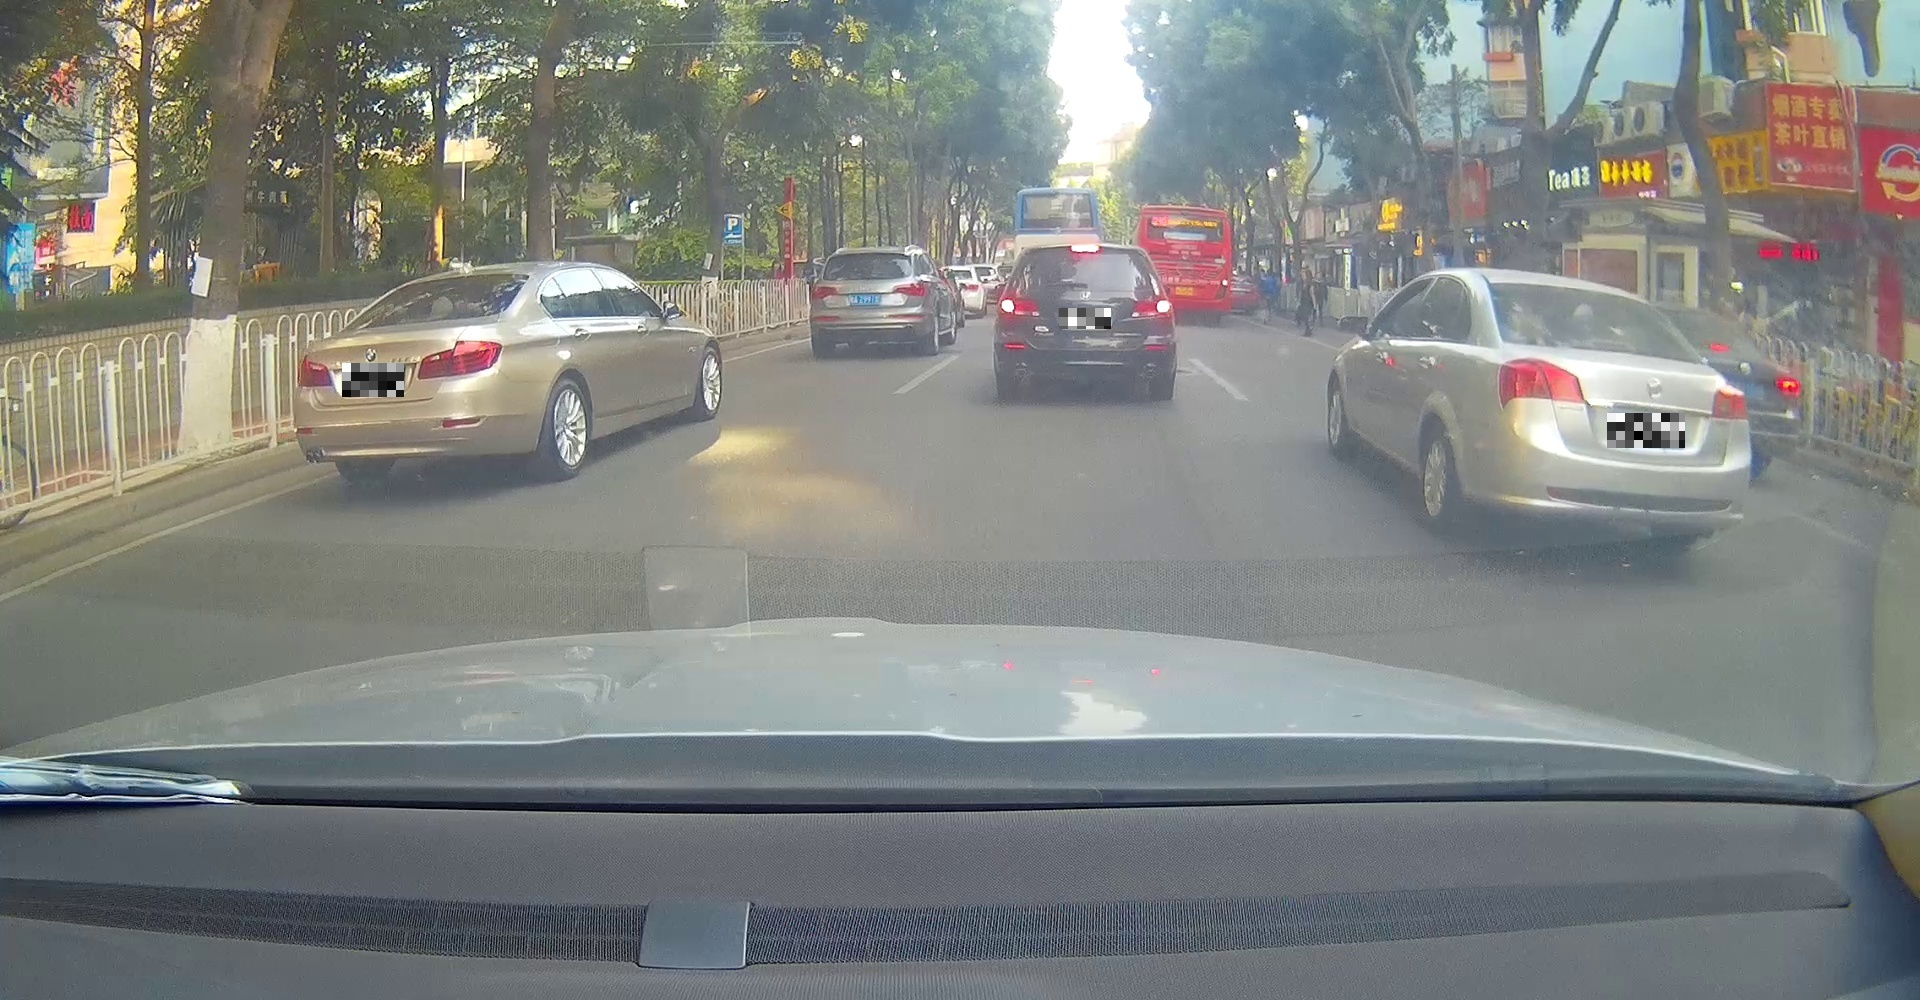L_light: (1498, 357, 1586, 409), (295, 354, 334, 388), (999, 294, 1039, 317), (810, 286, 839, 299)
R_light: (417, 340, 503, 381), (1707, 385, 1749, 419), (1131, 296, 1172, 319), (890, 280, 926, 297)
T_light: (1566, 288, 1601, 299), (1070, 242, 1100, 253), (436, 278, 461, 286), (860, 253, 872, 258)
day-brake: (996, 242, 1175, 400)
day-no: (1482, 270, 1752, 544), (291, 261, 532, 480), (809, 247, 927, 359)
plate_1: (342, 363, 404, 397)
plate_2: (1059, 308, 1111, 329)
plate_3: (1608, 412, 1685, 448)
